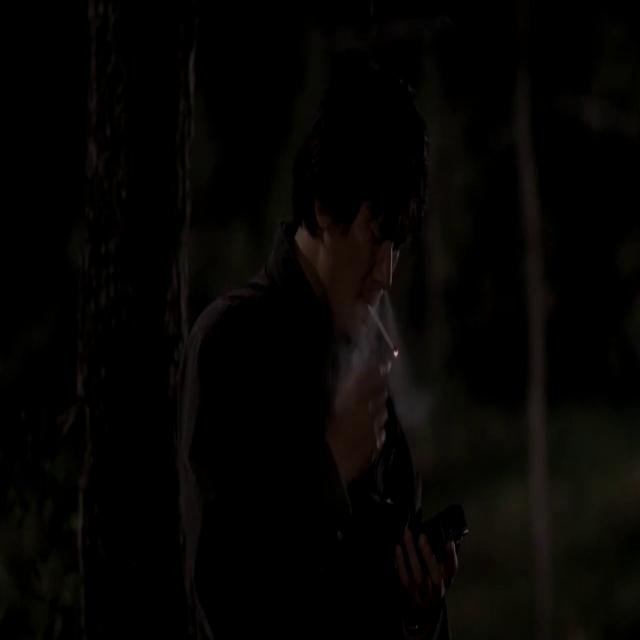Smooking: (369, 301, 406, 361)
